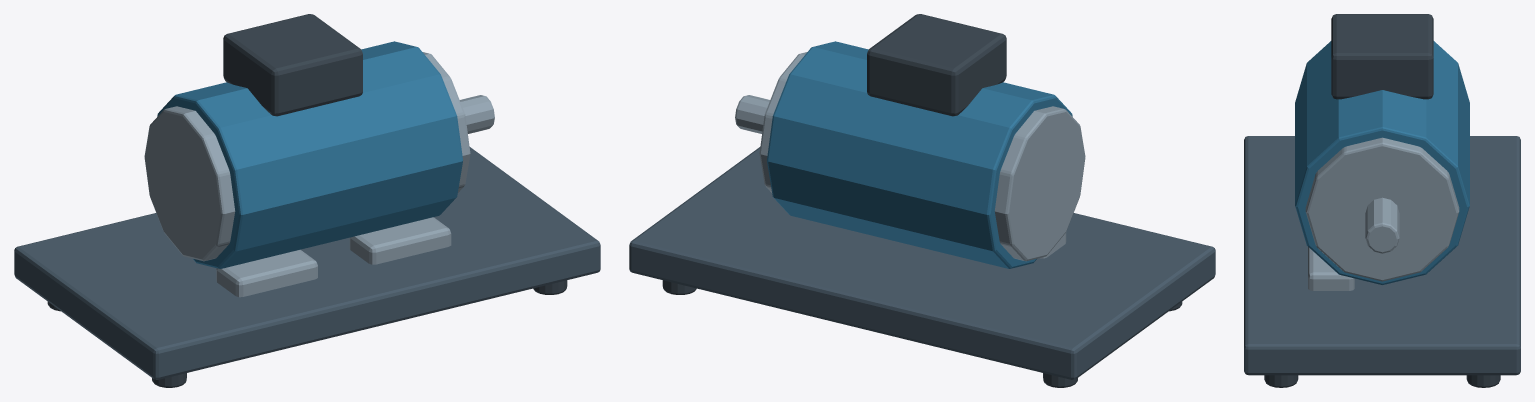
File: industrial-motor-lod2.glb
The picture shows the model from 3 angles, left to right: view 1: azimuth 30°, elevation 25°; view 2: azimuth 150°, elevation 25°; view 3: azimuth 270°, elevation 25°; orthographic projection. The views are drawn at different scales.
Parts seen in each view (by area): view 1: drive_base, motor, motor_terminal_box, motor_rear_endcap, motor_foot_right, motor_foot_left, motor_front_endcap, motor_shaft; view 2: drive_base, motor, motor_terminal_box, motor_rear_endcap, motor_front_endcap, motor_shaft; view 3: drive_base, motor, motor_front_endcap, motor_terminal_box, motor_shaft, motor_foot_right, base_mount_2.0_0.9500000000000001, base_mount_2.0_-0.9500000000000001.
Part boxes in pixels (<box>): drive_base: <box>14,147,600,379</box>; motor: <box>157,41,462,268</box>; motor_terminal_box: <box>223,14,362,116</box>; motor_rear_endcap: <box>144,106,235,261</box>; motor_foot_right: <box>349,217,451,264</box>; motor_foot_left: <box>216,249,317,297</box>; motor_front_endcap: <box>423,52,470,192</box>; motor_shaft: <box>460,95,494,133</box>; drive_base: <box>629,147,1215,379</box>; motor: <box>767,41,1072,268</box>; motor_terminal_box: <box>867,14,1006,116</box>; motor_rear_endcap: <box>994,106,1085,261</box>; motor_front_endcap: <box>759,52,806,192</box>; motor_shaft: <box>735,95,769,133</box>; drive_base: <box>1244,136,1520,375</box>; motor: <box>1295,41,1469,284</box>; motor_front_endcap: <box>1305,137,1459,281</box>; motor_terminal_box: <box>1331,14,1433,99</box>; motor_shaft: <box>1365,197,1399,253</box>; motor_foot_right: <box>1308,247,1354,290</box>; base_mount_2.0_0.9500000000000001: <box>1466,375,1500,387</box>; base_mount_2.0_-0.9500000000000001: <box>1264,375,1298,387</box>.
Bounding box in the file's own units: 4.7 × 2.6 × 2.6.
